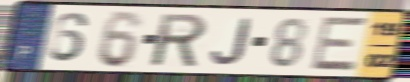6: (94, 8, 145, 70), (48, 11, 91, 65)
8: (268, 17, 309, 70)
E: (308, 15, 371, 73)
J: (209, 16, 254, 67)
R: (151, 12, 209, 69)
